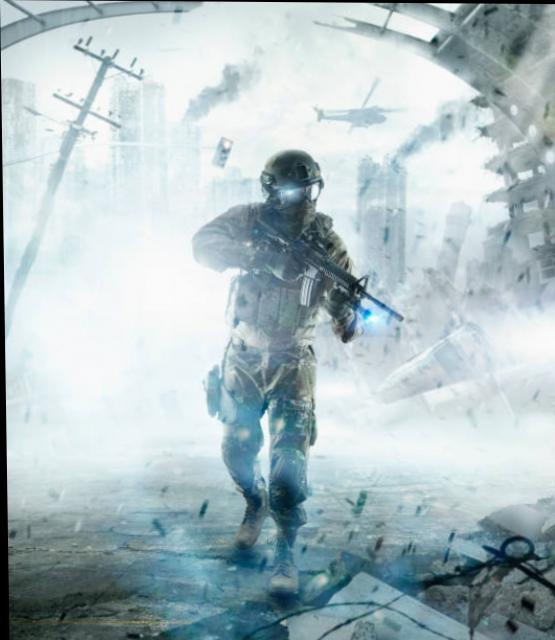other: (186, 127, 373, 563)
